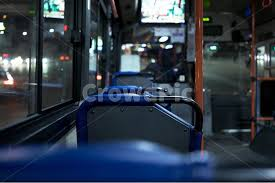seat: (86, 84, 202, 150)
